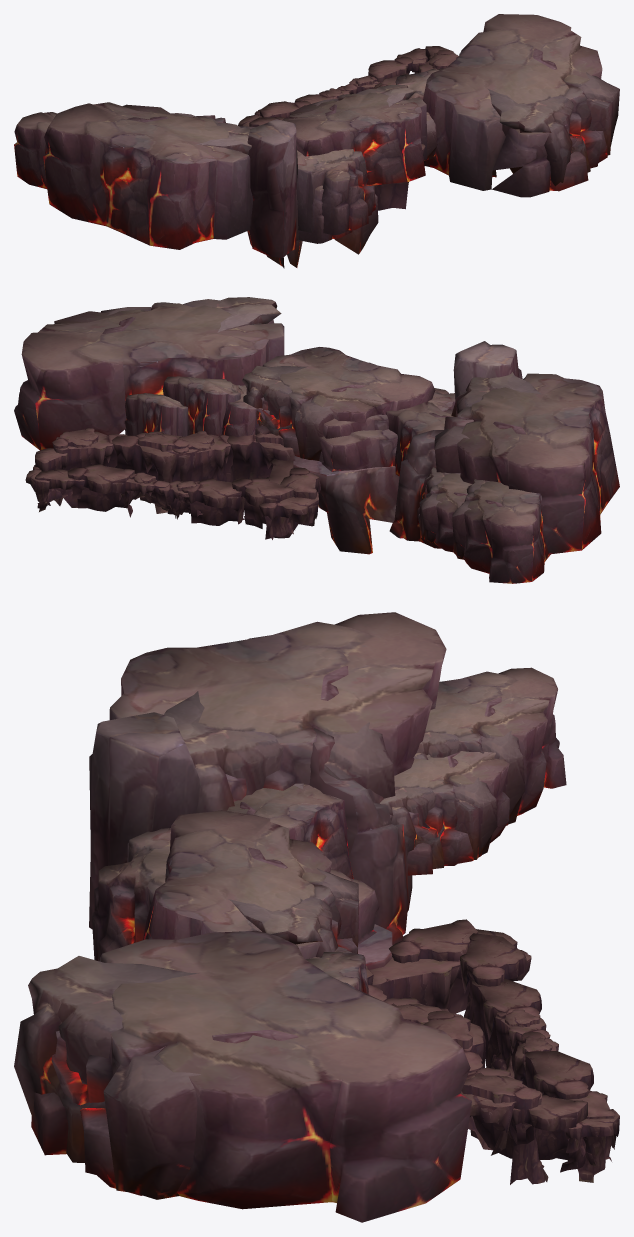
File: yanshi13_1.fbx
3 views of the same model, one above another, from view 1: azimuth 30°, elevation 25°; view 2: azimuth 150°, elevation 25°; view 3: azimuth 270°, elevation 25° (orthographic). The views are drawn at different scales.
Parts seen in each view (by area): view 1: yanshi13_1; view 2: yanshi13_1; view 3: yanshi13_1.
Part boxes in pixels (left/top/right/bottom): yanshi13_1: left=14, top=14, right=619, bottom=268; yanshi13_1: left=14, top=297, right=619, bottom=583; yanshi13_1: left=14, top=612, right=619, bottom=1222.
Bounding box in the file's own units: 9216 × 2532 × 5195.
